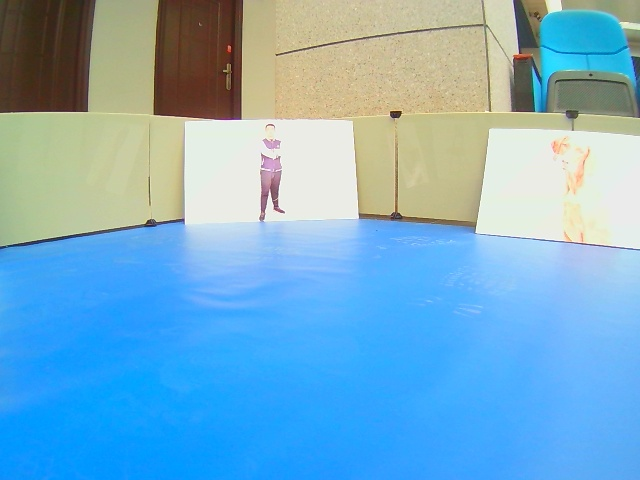person: (185, 121, 360, 227)
pet: (473, 127, 640, 252)
